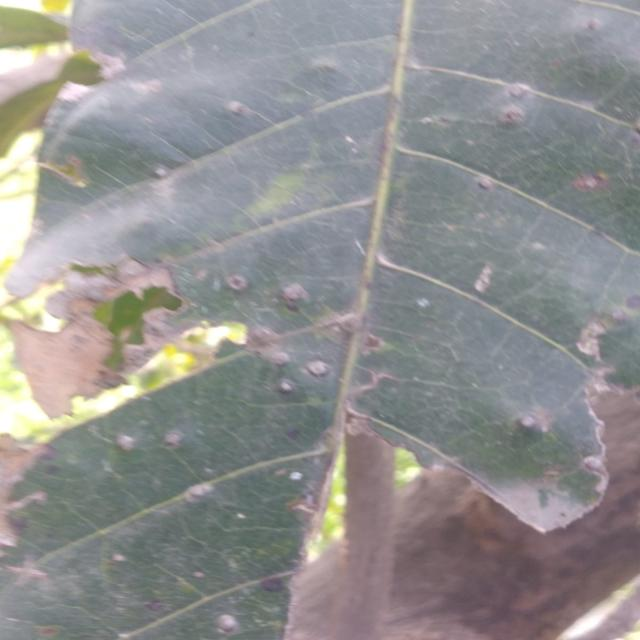Bacterial Cancer: (20, 275, 198, 404), (0, 429, 55, 561)
